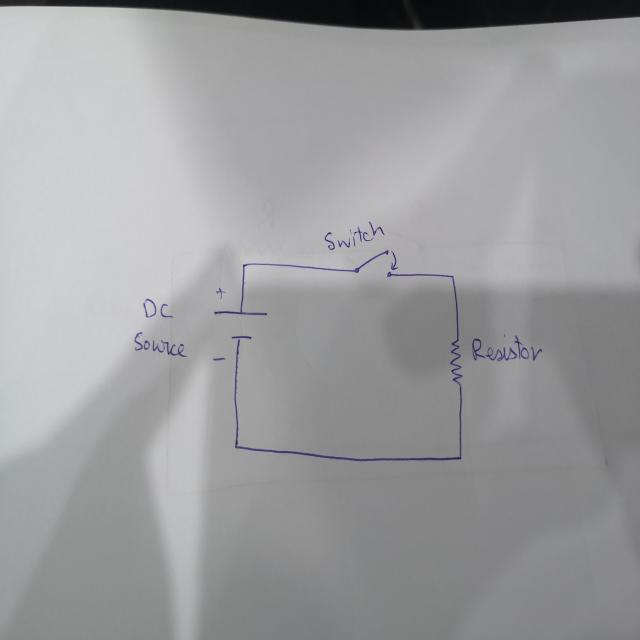junction: (444, 269, 458, 286), (454, 449, 465, 465), (232, 438, 243, 454), (240, 260, 248, 270)
resistor: (448, 334, 464, 389)
source: (211, 306, 274, 343)
switch: (352, 245, 400, 280)
text: (470, 331, 544, 365), (322, 218, 386, 251), (131, 329, 189, 362), (140, 297, 175, 321)
